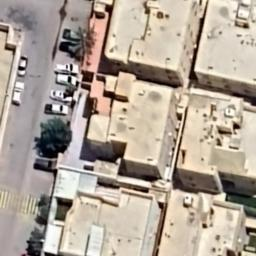SUV: (54, 63, 78, 75), (44, 103, 68, 115)
sedan: (17, 54, 28, 76), (50, 90, 72, 101), (60, 41, 78, 52)
van: (12, 81, 25, 105), (56, 74, 78, 86)
